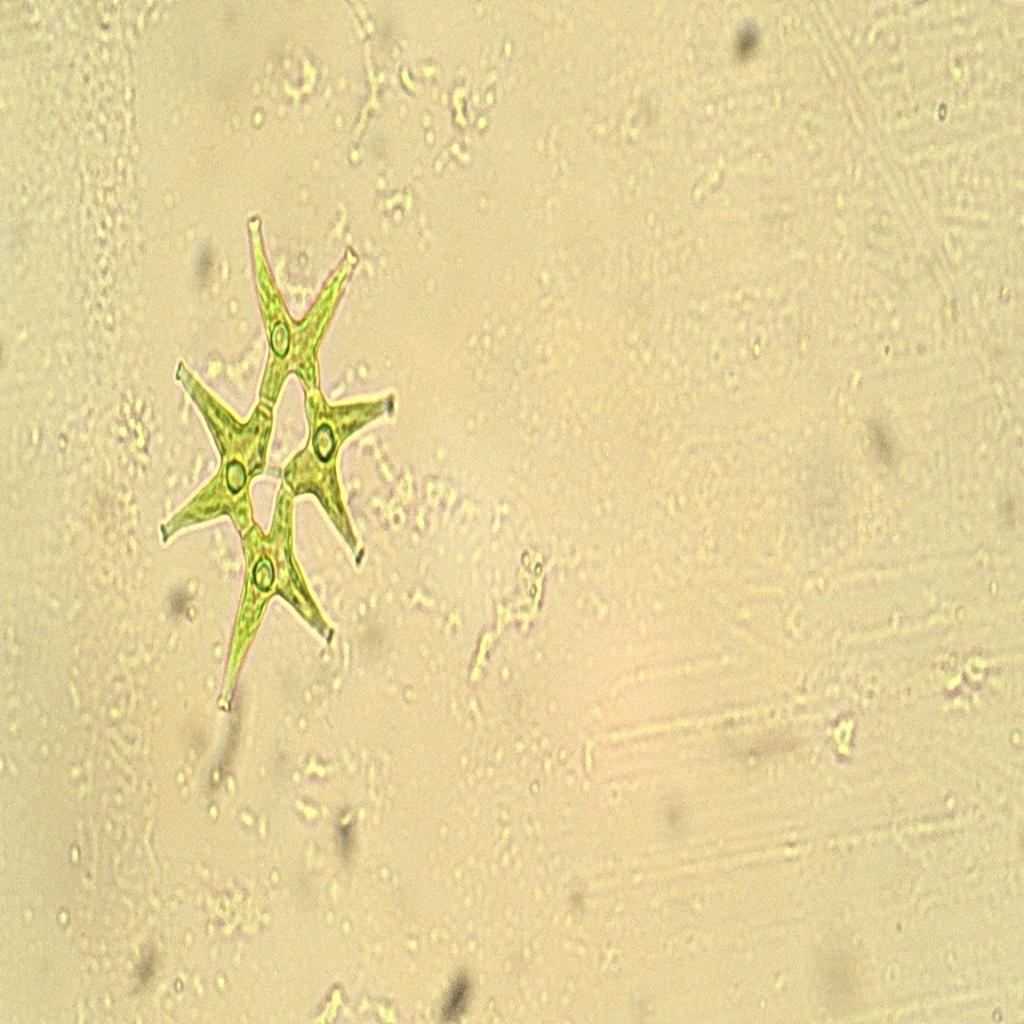Pediastrum_75FO: (134, 184, 416, 740)
